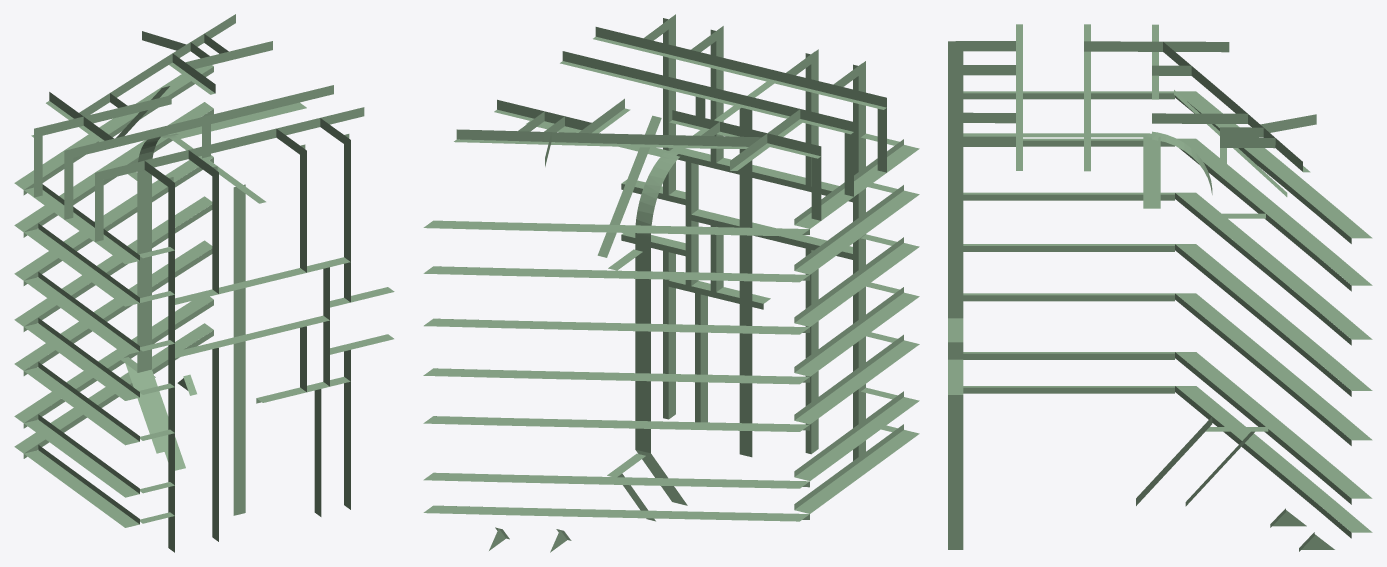
The model's file is ROPE_STORE_PS.glb.
3 views of the same model, side by side, from view 1: azimuth 30°, elevation 25°; view 2: azimuth 150°, elevation 25°; view 3: azimuth 270°, elevation 25° (orthographic). The views are drawn at different scales.
Visible parts, largest first — view 1: FP_SideTransxFREP_003001-T_200x12_NVA_1993, FP_SideTransxFREP_006001-T_250x19.5_NVA_1993, ST_UDxAPTPxDL10xWeb_044001-IA_150x90x12x12_NVA_1993, ST_UDxAPTPxDL09xWeb_045001-IA_150x90x12x12_NVA_1993, ST_No8LBHDxAPTPxWeb_017001-IA_200x90x9x14_NVA_1993, ST_OuterShellxAPTPxWeb_029001-IA_250x90x10x15_NVA32_1993, ST_OuterShellxAPTPxWeb_030001-IA_250x90x10x15_NVA32_1993, ST_OuterShellxAPTPxWeb_031001-IA_250x90x10x15_NVA32_1993, ST_OuterShellxAPTPxWeb_033001-IA_250x90x10x15_NVA32_1993, ST_OuterShellxAPTPxWeb_028001-IA_250x90x10x15_NVA32_1993, ST_OuterShellxAPTPxWeb_032001-IA_250x90x10x15_NVA32_1993, ST_OuterShellxAPTPxL60xWeb_001001-IA_265x90x10x15_NVA32_1993 (+54 smaller); view 2: FP_SideTransxFREP_006001-T_250x19.5_NVA_1993, FP_SideTransxFREP_003001-T_200x12_NVA_1993, ST_OuterShellxAPTPxL60A1xWeb_001001-IA_265x90x10x15_NVA32_19, ST_OuterShellxAPTPxL60A2xWeb_001001-IA_265x90x10x15_NVA32_19, ST_OuterShellxAPTPxL59xWeb_001001-IA_265x90x10x15_NVA32_1993, ST_OuterShellxAPTPxL56xWeb_001001-IA_265x90x10x15_NVA32_1993, ST_OuterShellxAPTPxL60xWeb_001001-IA_265x90x10x15_NVA32_1993, ST_OuterShellxAPTPxL57xWeb_001001-IA_265x90x10x15_NVA32_1993, ST_OuterShellxAPTPxL58xWeb_001001-IA_265x90x10x15_NVA32_1993, ST_UDxAPTPxDL09xWeb_045001-IA_150x90x12x12_NVA_1993, ST_UDxAPTPxDL10xWeb_044001-IA_150x90x12x12_NVA_1993, ST_UDxAPTPxDL30xWeb_057001-IA_150x90x12x12_NVA_1993 (+45 smaller); view 3: ST_No8LBHDxAPTPxWeb_018001-IA_200x90x9x14_NVA_1993, ST_OuterShellxAPTPxL58xWeb_001001-IA_265x90x10x15_NVA32_1993, ST_OuterShellxAPTPxL57xWeb_001001-IA_265x90x10x15_NVA32_1993, ST_OuterShellxAPTPxL59xWeb_001001-IA_265x90x10x15_NVA32_1993, ST_OuterShellxAPTPxL60xWeb_001001-IA_265x90x10x15_NVA32_1993, ST_OuterShellxAPTPxL56xWeb_001001-IA_265x90x10x15_NVA32_1993, ST_OuterShellxAPTPxL60A1xWeb_001001-IA_265x90x10x15_NVA32_19, ST_OuterShellxAPTPxL60A2xWeb_001001-IA_265x90x10x15_NVA32_19, ST_UDxAPTPxWeb_004001-IA_150x90x9x9_NVA_1993, ST_No8LBHDxAPTPxWeb_007002-IA_200x90x9x14_NVA_1993, ST_OuterShellxAPTPxFLG_028001-IA_250x90x10x15_NVA32_1993, ST_OuterShellxAPTPxFLG_029001-IA_250x90x10x15_NVA32_1993 (+39 smaller).
Part boxes in pixels (x1,y1,x2,y2): FP_SideTransxFREP_003001-T_200x12_NVA_1993: [233, 184, 245, 432]; FP_SideTransxFREP_006001-T_250x19.5_NVA_1993: [137, 170, 151, 363]; ST_UDxAPTPxDL10xWeb_044001-IA_150x90x12x12_NVA_1993: [64, 99, 275, 159]; ST_UDxAPTPxDL09xWeb_045001-IA_150x90x12x12_NVA_1993: [95, 121, 305, 181]; ST_No8LBHDxAPTPxWeb_017001-IA_200x90x9x14_NVA_1993: [168, 178, 174, 469]; ST_OuterShellxAPTPxWeb_029001-IA_250x90x10x15_NVA32_1993: [24, 420, 139, 497]; ST_OuterShellxAPTPxWeb_030001-IA_250x90x10x15_NVA32_1993: [24, 367, 139, 445]; ST_OuterShellxAPTPxWeb_031001-IA_250x90x10x15_NVA32_1993: [24, 323, 139, 400]; ST_OuterShellxAPTPxWeb_033001-IA_250x90x10x15_NVA32_1993: [24, 229, 139, 306]; ST_OuterShellxAPTPxWeb_028001-IA_250x90x10x15_NVA32_1993: [24, 450, 139, 527]; ST_OuterShellxAPTPxWeb_032001-IA_250x90x10x15_NVA32_1993: [24, 277, 139, 354]; ST_OuterShellxAPTPxL60xWeb_001001-IA_265x90x10x15_NVA32_1993: [14, 180, 167, 280]; FP_SideTransxFREP_006001-T_250x19.5_NVA_1993: [635, 233, 650, 443]; FP_SideTransxFREP_003001-T_200x12_NVA_1993: [739, 108, 752, 367]; ST_OuterShellxAPTPxL60A1xWeb_001001-IA_265x90x10x15_NVA32_19: [505, 268, 809, 282]; ST_OuterShellxAPTPxL60A2xWeb_001001-IA_265x90x10x15_NVA32_19: [505, 222, 809, 236]; ST_OuterShellxAPTPxL59xWeb_001001-IA_265x90x10x15_NVA32_1993: [505, 370, 809, 384]; ST_OuterShellxAPTPxL56xWeb_001001-IA_265x90x10x15_NVA32_1993: [505, 507, 809, 521]; ST_OuterShellxAPTPxL60xWeb_001001-IA_265x90x10x15_NVA32_1993: [505, 320, 809, 334]; ST_OuterShellxAPTPxL57xWeb_001001-IA_265x90x10x15_NVA32_1993: [505, 475, 809, 488]; ST_OuterShellxAPTPxL58xWeb_001001-IA_265x90x10x15_NVA32_1993: [505, 418, 809, 431]; ST_UDxAPTPxDL09xWeb_045001-IA_150x90x12x12_NVA_1993: [659, 42, 886, 107]; ST_UDxAPTPxDL10xWeb_044001-IA_150x90x12x12_NVA_1993: [626, 66, 853, 131]; ST_UDxAPTPxDL30xWeb_057001-IA_150x90x12x12_NVA_1993: [538, 131, 761, 146]; ST_No8LBHDxAPTPxWeb_018001-IA_200x90x9x14_NVA_1993: [948, 136, 963, 318]; ST_OuterShellxAPTPxL58xWeb_001001-IA_265x90x10x15_NVA32_1993: [1175, 293, 1334, 408]; ST_OuterShellxAPTPxL57xWeb_001001-IA_265x90x10x15_NVA32_1993: [1175, 352, 1334, 466]; ST_OuterShellxAPTPxL59xWeb_001001-IA_265x90x10x15_NVA32_1993: [1175, 244, 1334, 358]; ST_OuterShellxAPTPxL60xWeb_001001-IA_265x90x10x15_NVA32_1993: [1175, 192, 1334, 307]; ST_OuterShellxAPTPxL56xWeb_001001-IA_265x90x10x15_NVA32_1993: [1175, 386, 1334, 500]; ST_OuterShellxAPTPxL60A1xWeb_001001-IA_265x90x10x15_NVA32_19: [1177, 138, 1334, 253]; ST_OuterShellxAPTPxL60A2xWeb_001001-IA_265x90x10x15_NVA32_19: [1176, 91, 1334, 206]; ST_UDxAPTPxWeb_004001-IA_150x90x9x9_NVA_1993: [1084, 41, 1229, 52]; ST_No8LBHDxAPTPxWeb_007002-IA_200x90x9x14_NVA_1993: [948, 457, 963, 549]; ST_OuterShellxAPTPxFLG_028001-IA_250x90x10x15_NVA32_1993: [963, 387, 1174, 393]; ST_OuterShellxAPTPxFLG_029001-IA_250x90x10x15_NVA32_1993: [963, 353, 1174, 359].
Size of the model in its own units: 4.6 by 6.04 by 5.62.
